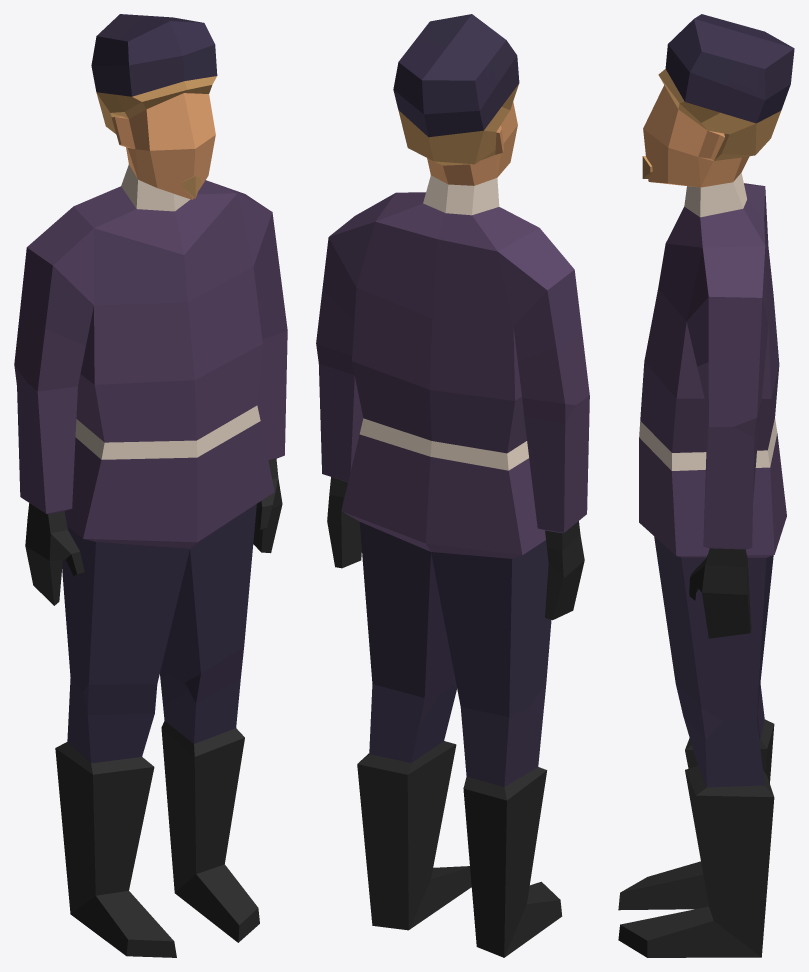
File: people_man-lord-rival.fbx
The picture shows the model from 3 angles, left to right: view 1: azimuth 30°, elevation 25°; view 2: azimuth 150°, elevation 25°; view 3: azimuth 270°, elevation 25°; orthographic projection.
Parts seen in each view (by area): view 1: people_man_lord_rival; view 2: people_man_lord_rival; view 3: people_man_lord_rival.
Boxes of the visible parts, left/top/right/bottom form: people_man_lord_rival: left=14, top=14, right=287, bottom=957; people_man_lord_rival: left=316, top=14, right=589, bottom=957; people_man_lord_rival: left=618, top=14, right=794, bottom=957.
Bounding box in the file's own units: 58.02 × 200 × 35.22.
